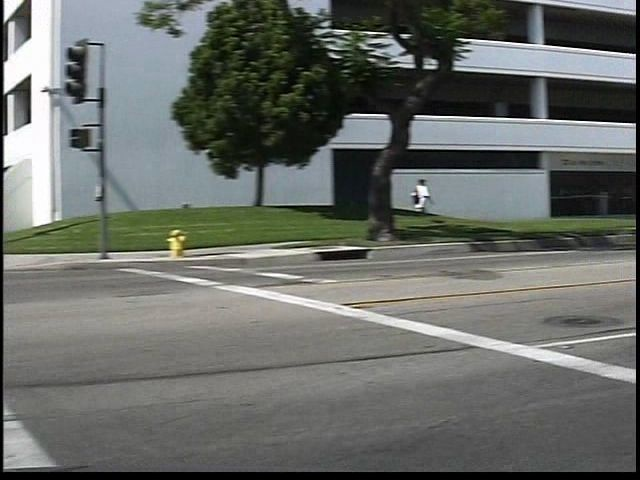person: (427, 174, 452, 235)
